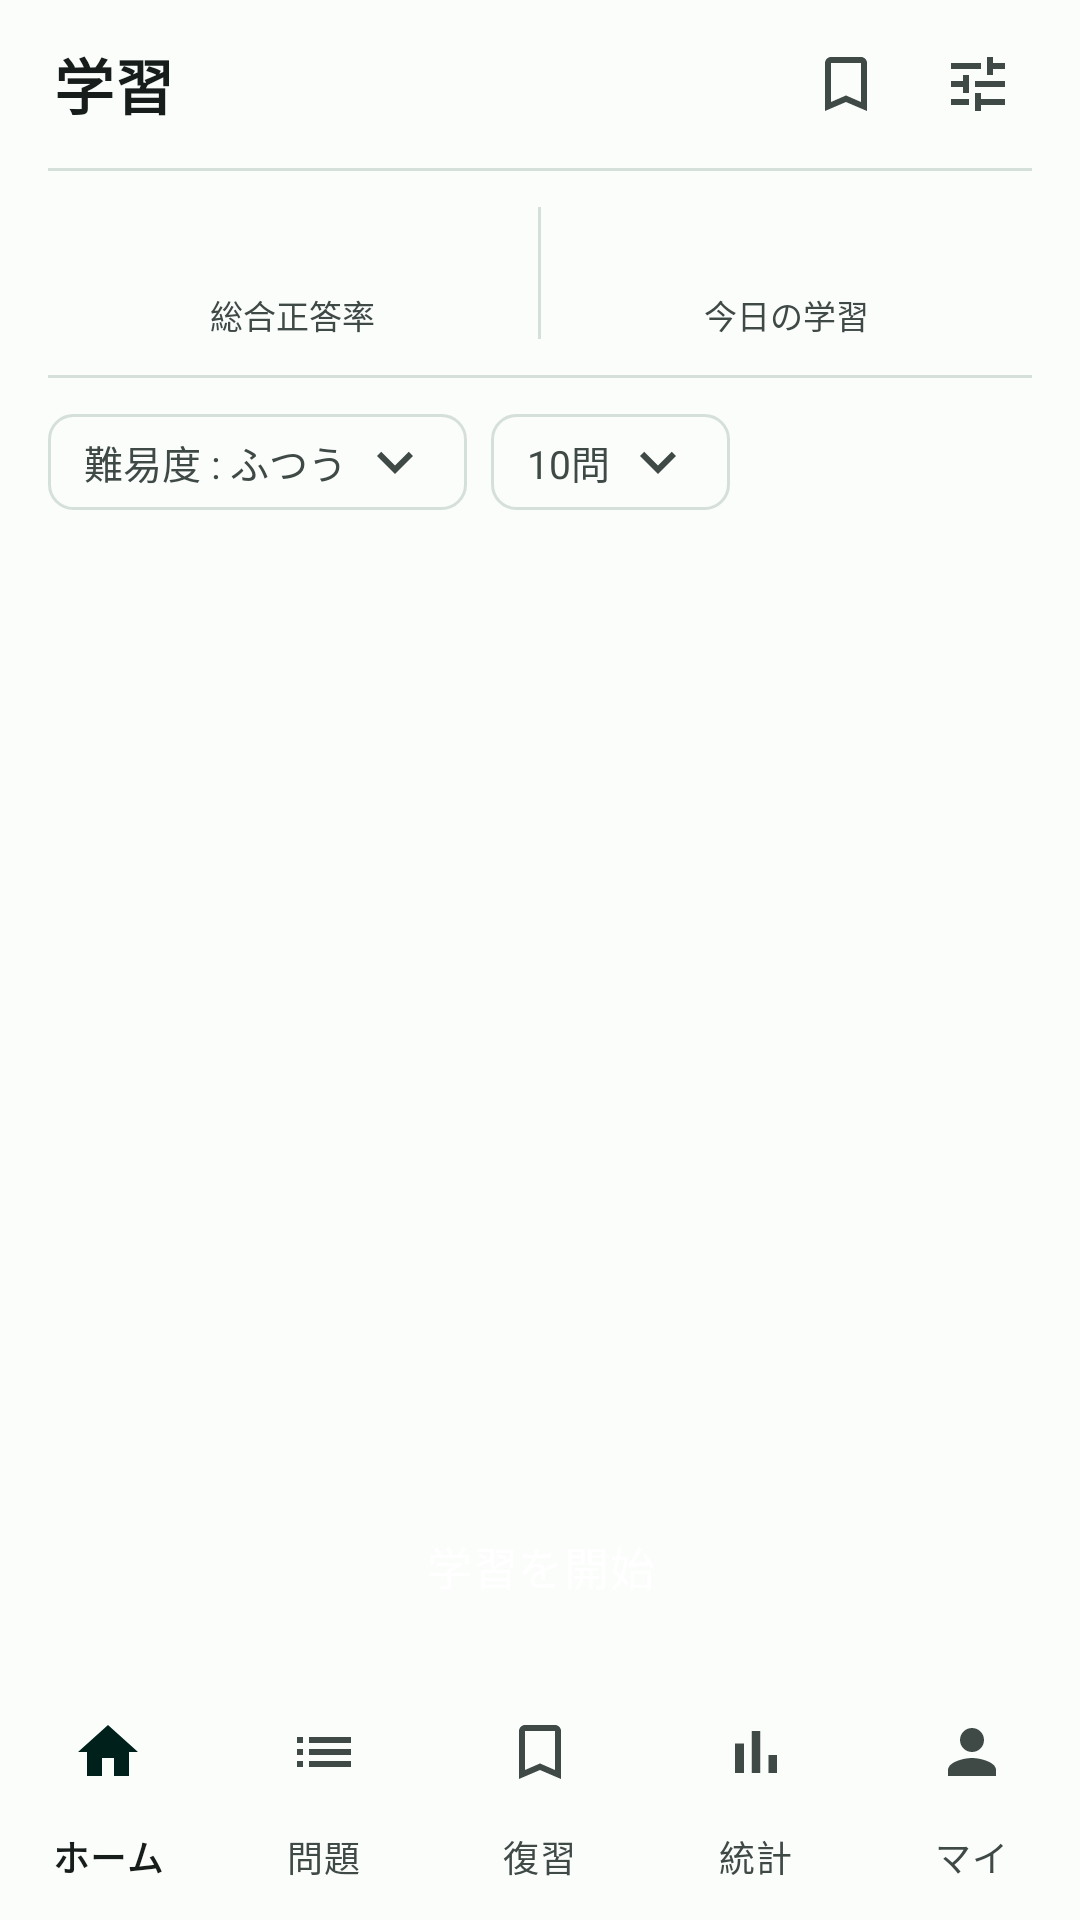

Icon bounding boxes for this 1080px×1920px phone screenshot, format bbox=(x1, y1, x2, y2):
設定: bbox=(951, 57, 1005, 111)
